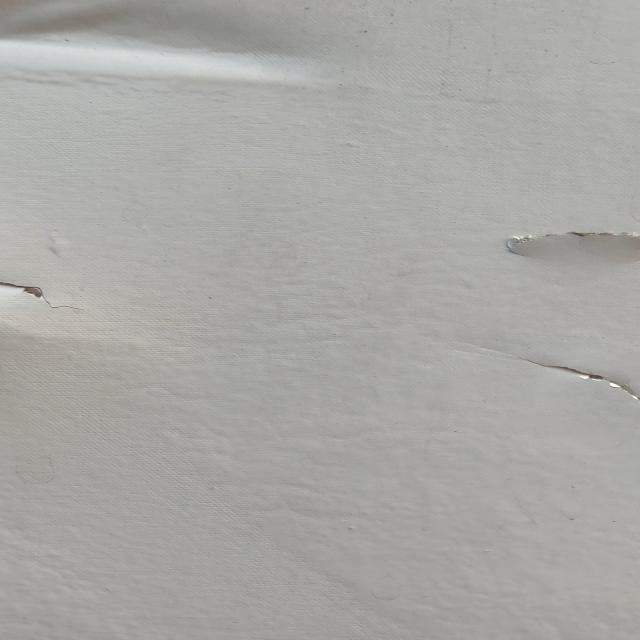Dents or Deformation: (1, 1, 374, 96)
Scratches: (493, 211, 640, 267), (1, 267, 121, 330), (532, 359, 640, 411)
